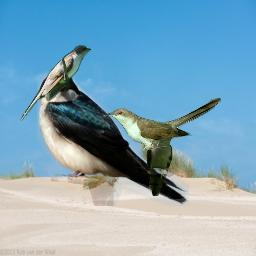Cuckoo: (105, 97, 221, 150), (20, 45, 91, 121), (146, 131, 174, 196)
Swallow: (37, 71, 189, 206)
